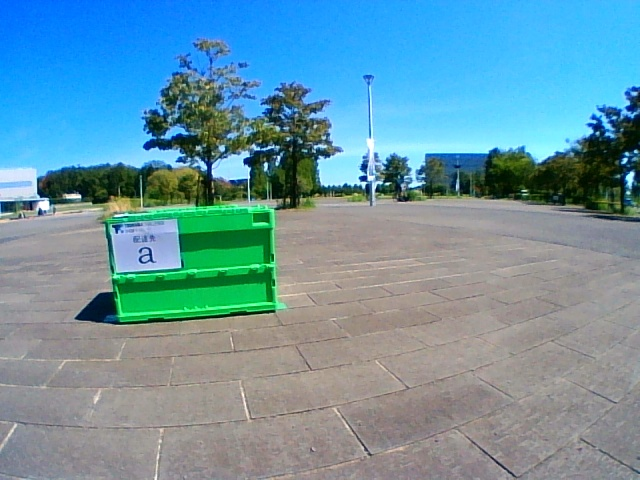green_box: (105, 205, 276, 323)
tag_a: (117, 224, 178, 270)
